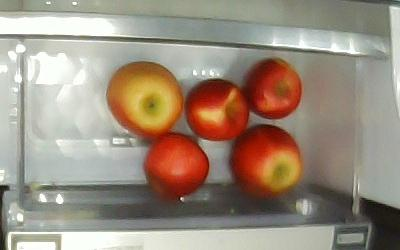apple: (106, 61, 183, 139), (227, 122, 302, 198), (144, 132, 209, 201), (184, 78, 249, 141), (243, 57, 302, 120)
